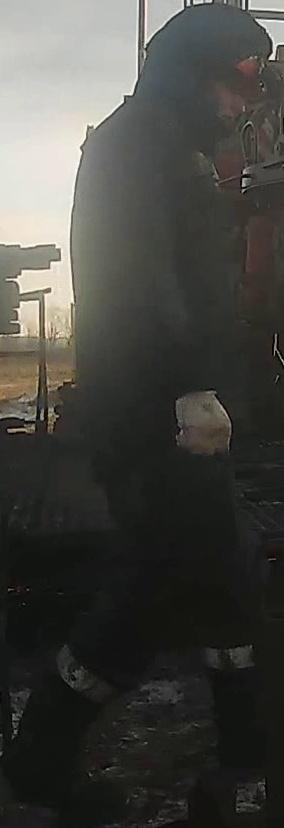vest: (69, 95, 254, 449)
